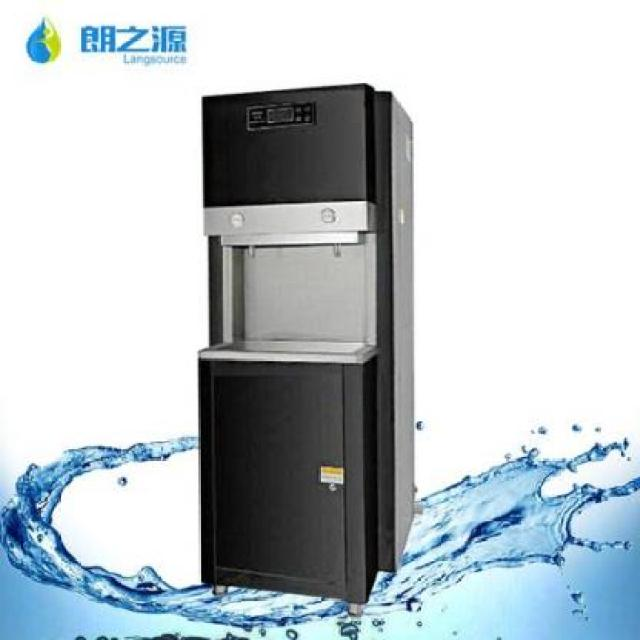cooler: (196, 85, 417, 606)
